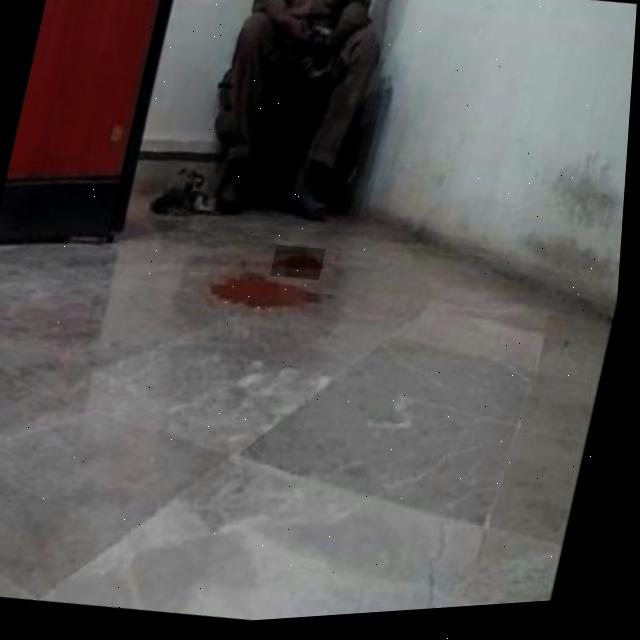spillage: (213, 277, 319, 315), (277, 252, 327, 285)
